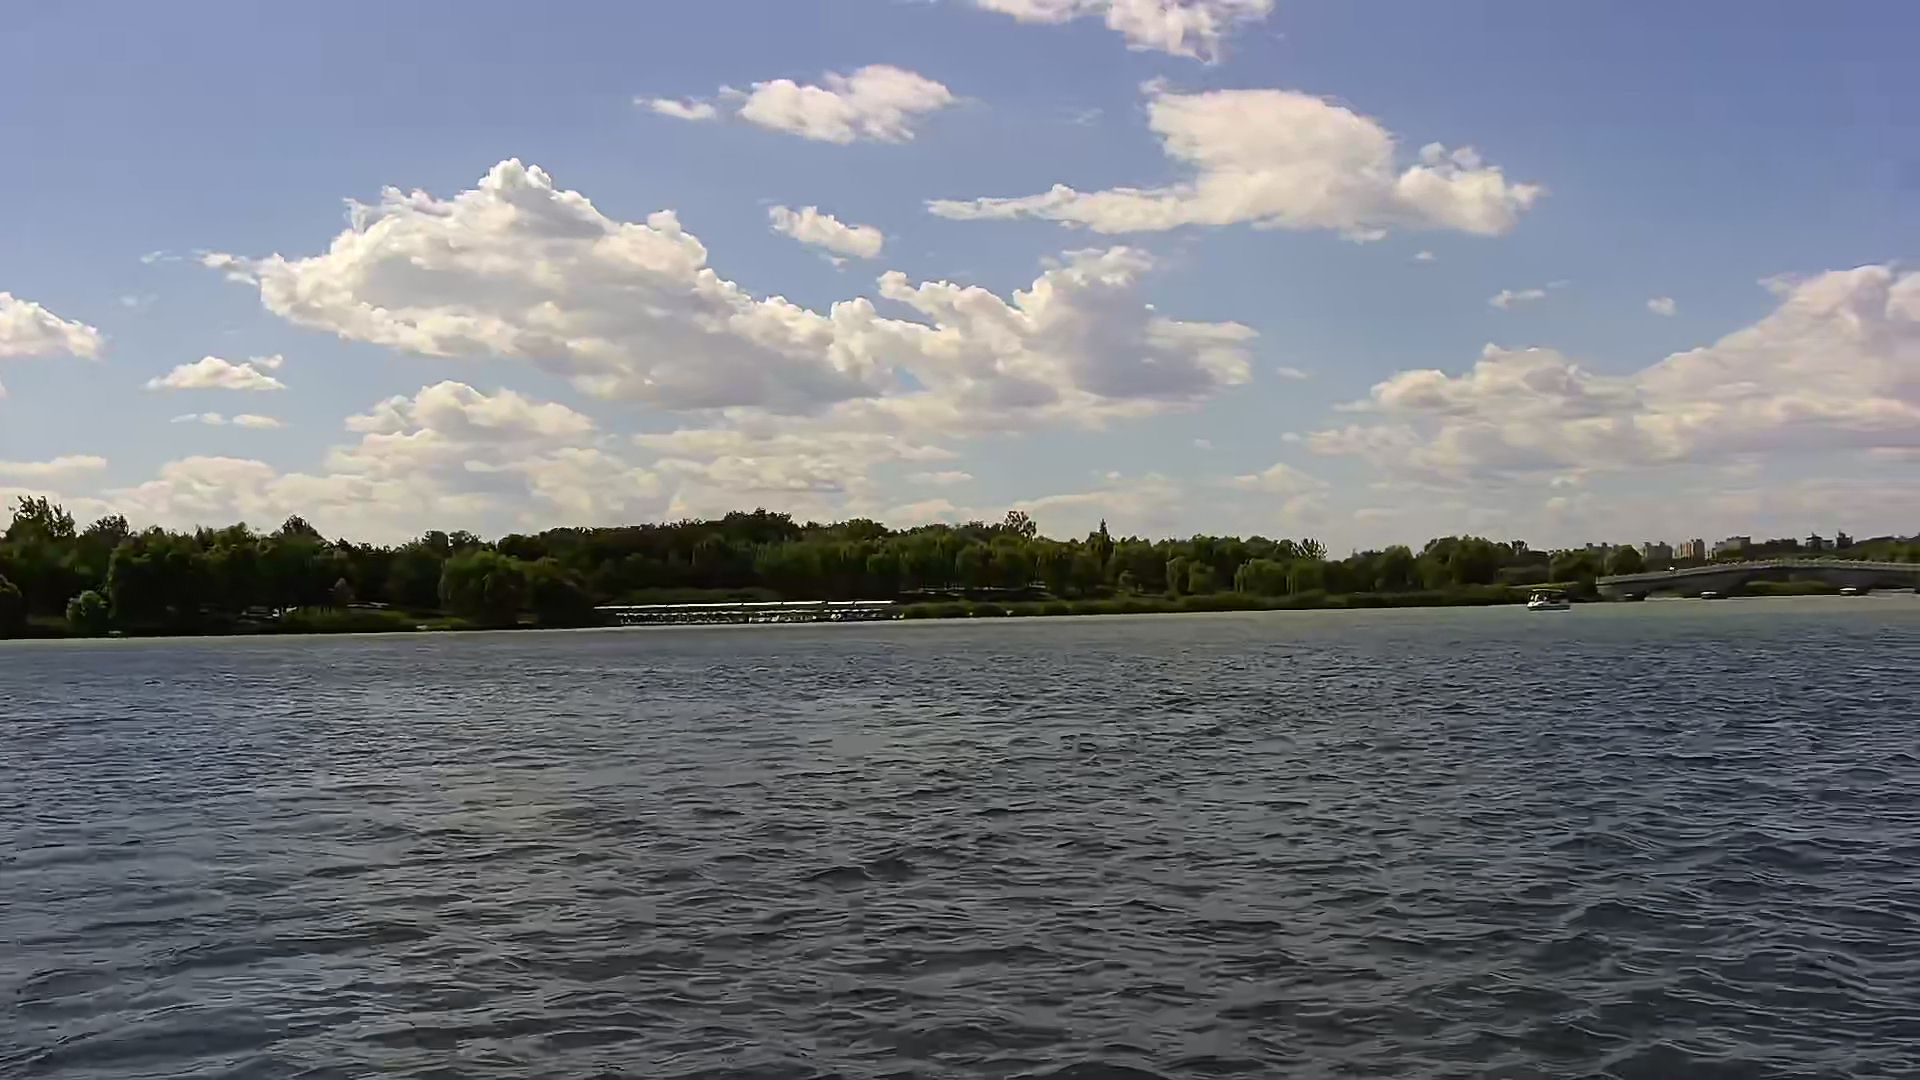boat: (1520, 580, 1575, 612)
bridge: (1582, 556, 1920, 601), (611, 599, 895, 621)
